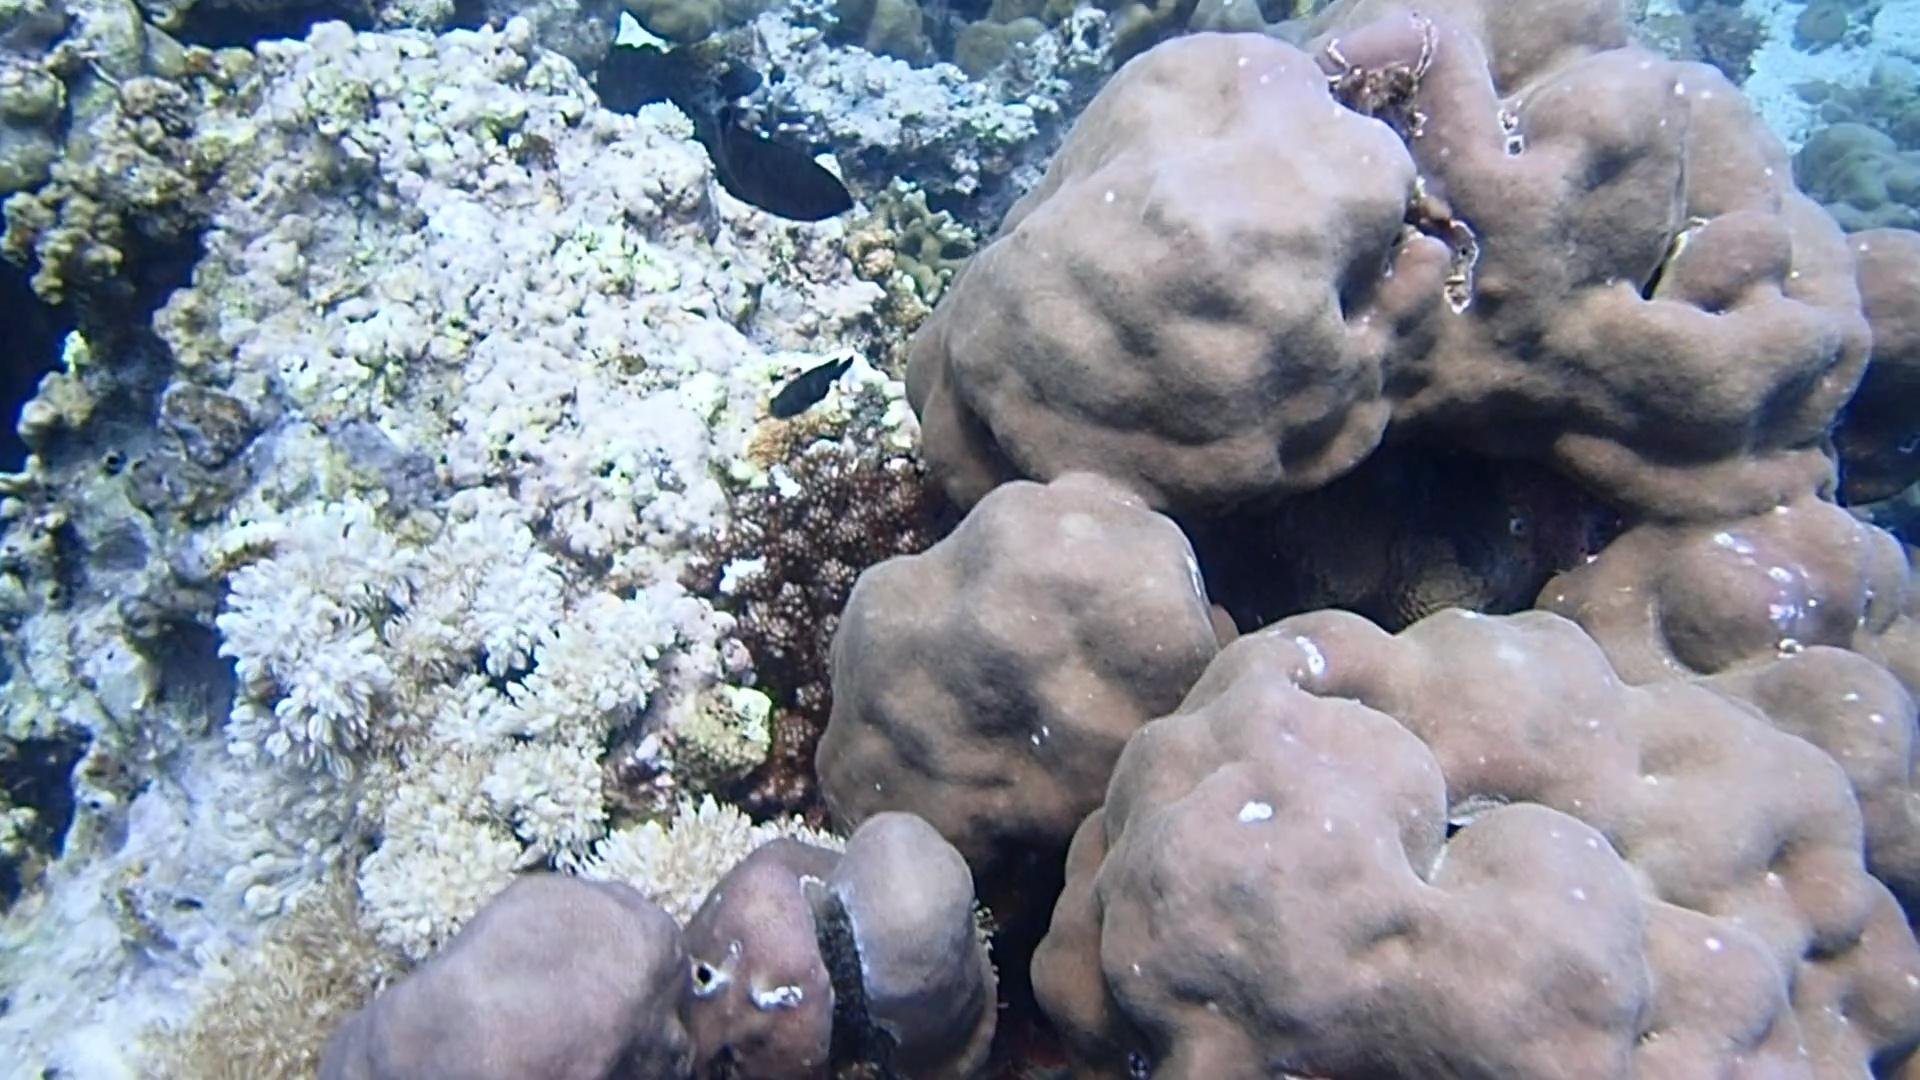Dark Fish: (690, 98, 865, 243), (762, 348, 861, 425), (711, 58, 767, 104), (855, 137, 899, 169)
